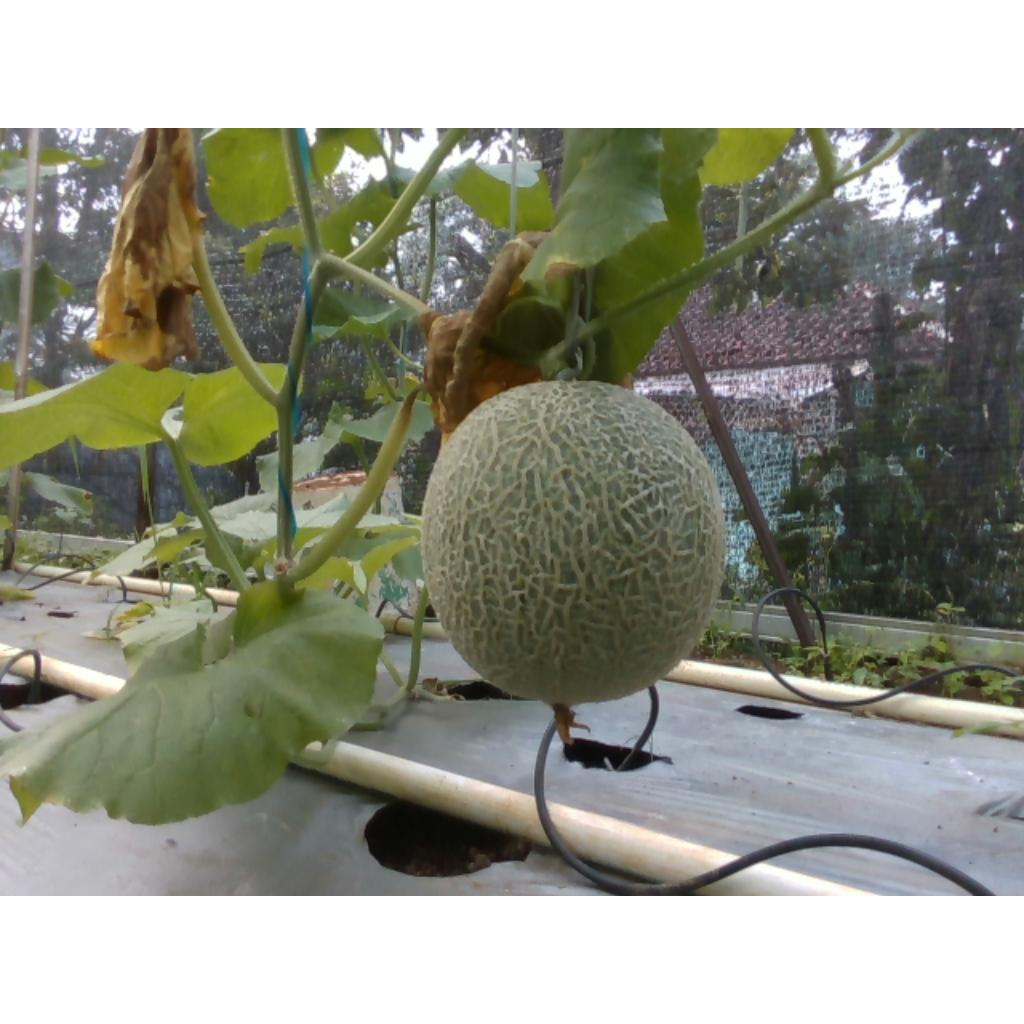melon: (422, 381, 726, 706)
